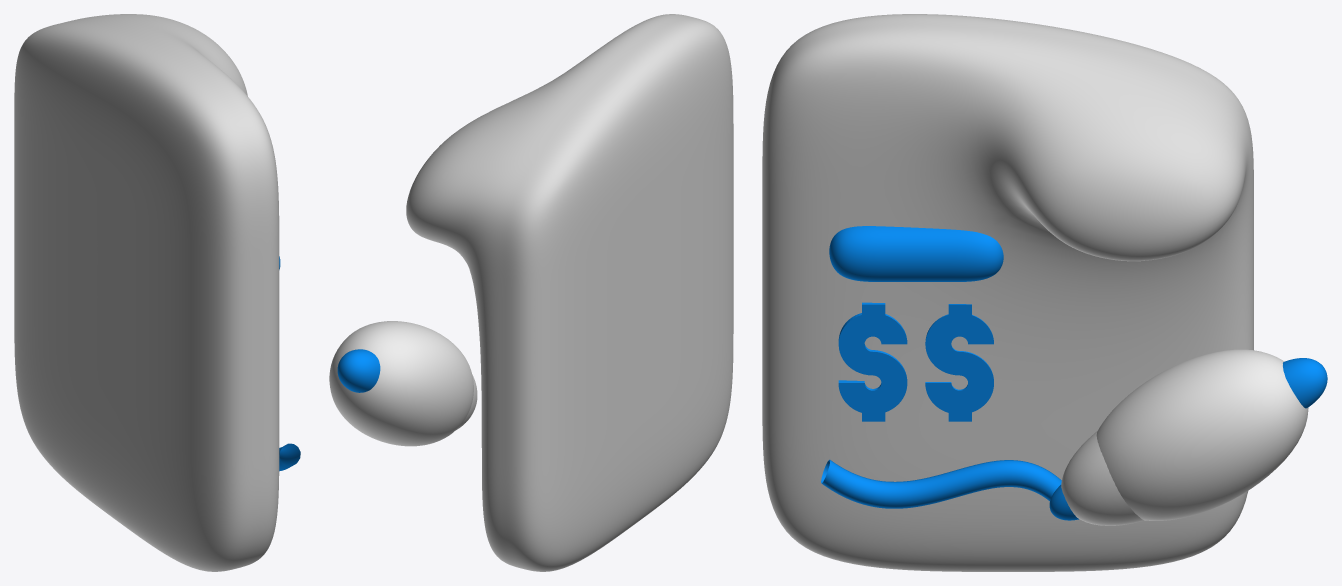
The model's file is obligation-paper-6507813-0.glb.
The picture shows the model from 3 angles, left to right: view 1: azimuth 30°, elevation 25°; view 2: azimuth 150°, elevation 25°; view 3: azimuth 270°, elevation 25°; orthographic projection. The views are drawn at different scales.
Visible parts, largest first — view 1: Cube, NurbsPath; view 2: Cube, Cube.003, Cube.004; view 3: Cube, Cube.003, Cube.005, NurbsPath, Text.006, Text.001, Cube.001, Cube.004.
Part boxes in pixels (x1,y1,x2,y2): Cube: [14, 14, 279, 571]; NurbsPath: [279, 443, 300, 471]; Cube: [406, 14, 733, 571]; Cube.003: [329, 321, 473, 446]; Cube.004: [337, 349, 380, 392]; Cube: [762, 14, 1253, 571]; Cube.003: [1096, 349, 1308, 520]; Cube.005: [829, 226, 1003, 281]; NurbsPath: [821, 459, 1061, 508]; Text.006: [838, 302, 907, 421]; Text.001: [925, 304, 993, 421]; Cube.001: [1061, 430, 1144, 525]; Cube.004: [1283, 358, 1327, 408].
Size of the model in its own units: 3.52 by 7.05 by 6.68.
